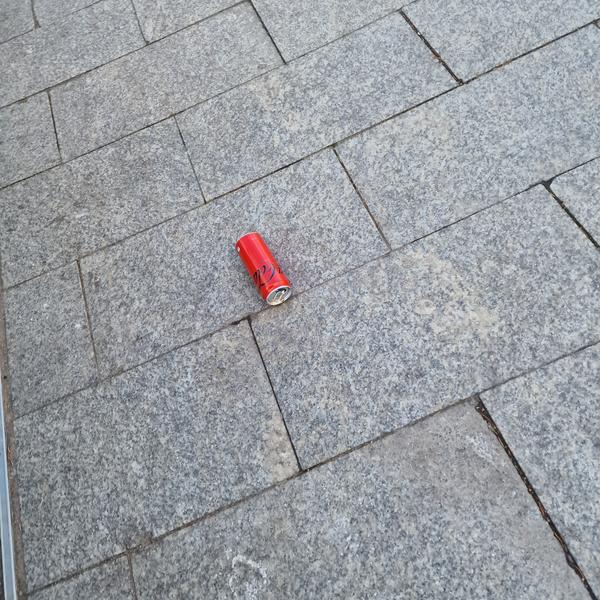can: (231, 227, 296, 312)
